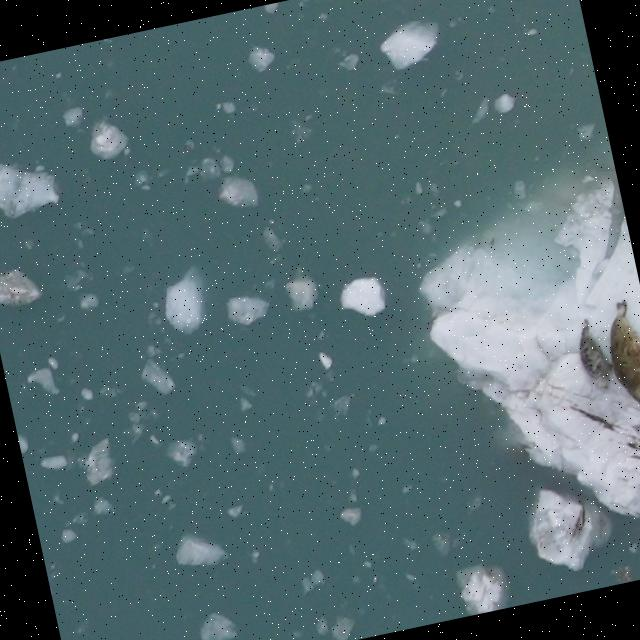seal: (597, 294, 640, 415), (569, 310, 619, 400)
